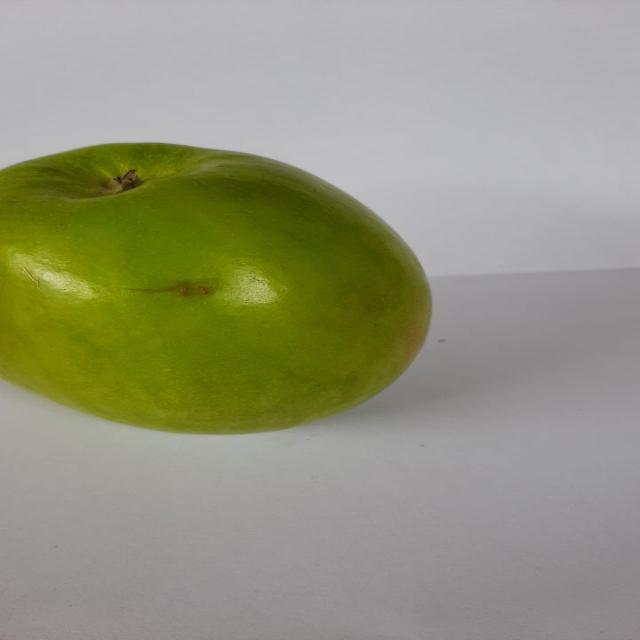50-_ripeness: (6, 127, 449, 447)
